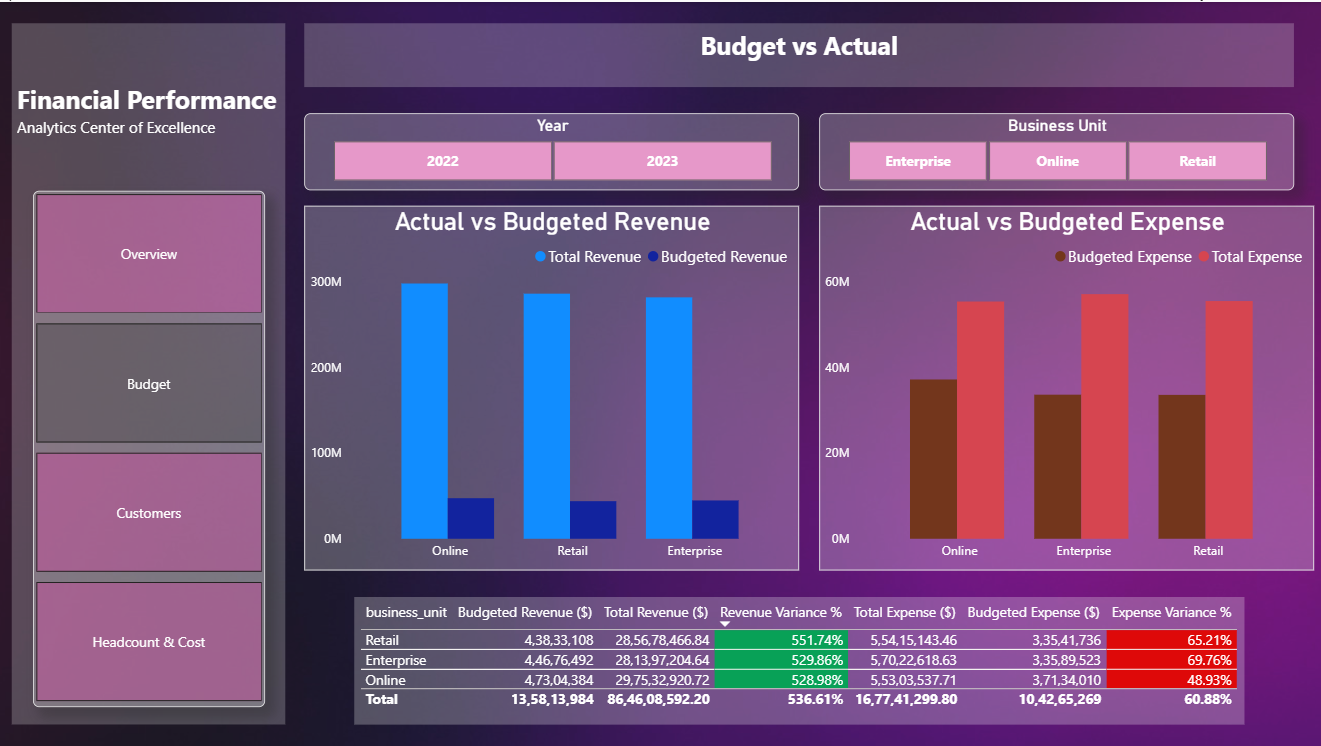

What the dashboard file says about the page in this screenshot:
{"tool":"powerbi","page":{"name":"Budget","canvas":[1280,720],"ordinal":1},"visuals":[{"type":"textbox","box":[295.6,20.5,955.5,61.5],"z":0},{"type":"textbox","box":[13.3,20.5,264.2,676.8],"z":1000},{"type":"clusteredColumnChart","title":"Actual vs Budgeted Revenue","fields":{"Category":["Budget.business_unit"],"Y":["Financial_Transactions.Total Revenue","Budget.Budgeted Revenue"]},"box":[295.6,196.6,477.8,352.3],"z":2000},{"type":"clusteredColumnChart","title":"Actual vs Budgeted Expense","fields":{"Category":["Budget.business_unit"],"Y":["Budget.Budgeted Expense","Financial_Transactions.Total Expense"]},"box":[792.6,196.6,477.8,352.3],"z":3000},{"type":"tableEx","fields":{"Values":["Budget.business_unit","Budget.Budgeted Revenue","Financial_Transactions.Total Revenue","Budget.Revenue Variance %","Financial_Transactions.Total Expense","Budget.Budgeted Expense","Budget.Expense Variance %"]},"box":[361.9,574.3,838.5,123.1],"z":4000},{"type":"slicer","title":"Year","fields":{"Values":["Budget.year"]},"box":[295.6,107.4,477.8,74.8],"z":5000},{"type":"slicer","title":"Business Unit","fields":{"Values":["Financial_Transactions.business_unit"]},"box":[792.6,107.4,458.4,74.8],"z":6000},{"type":"pageNavigator","box":[33.8,182.2,224.4,498.3],"z":7000}]}

Visuals, with their boxes in screenshot pixels (x1, y1, x2, y2), scaled from the page's 1280x720 canvas onto the 1321x746 screenshot:
textbox: 305,21,1291,85
textbox: 14,21,286,722
"Actual vs Budgeted Revenue" clusteredColumnChart: 305,204,798,569
"Actual vs Budgeted Expense" clusteredColumnChart: 818,204,1311,569
tableEx - Budget.business_unit x Budget.Budgeted Revenue: 373,595,1239,723
"Year" slicer: 305,111,798,189
"Business Unit" slicer: 818,111,1291,189
pageNavigator: 35,189,266,705
